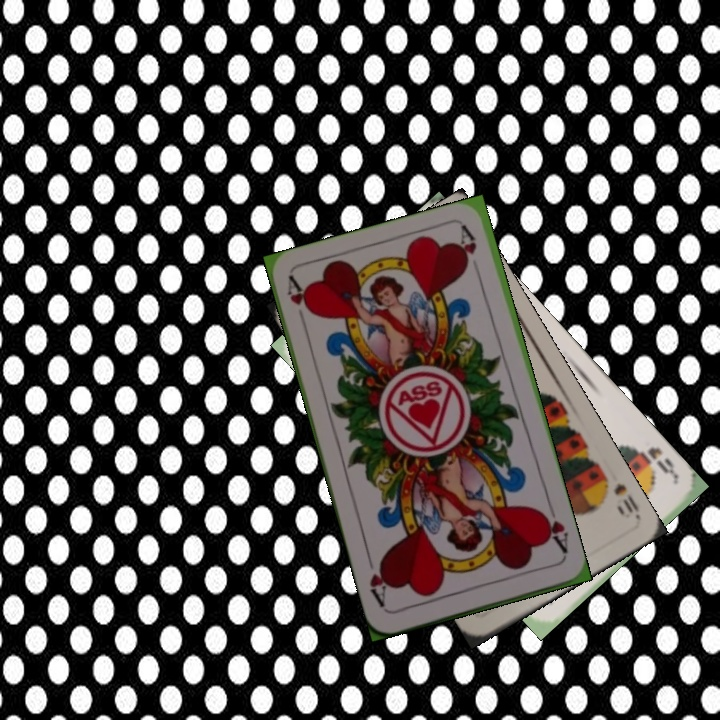HA: (535, 502, 571, 560), (282, 274, 315, 332)
S10: (596, 470, 642, 521)
SO: (627, 442, 680, 485)
